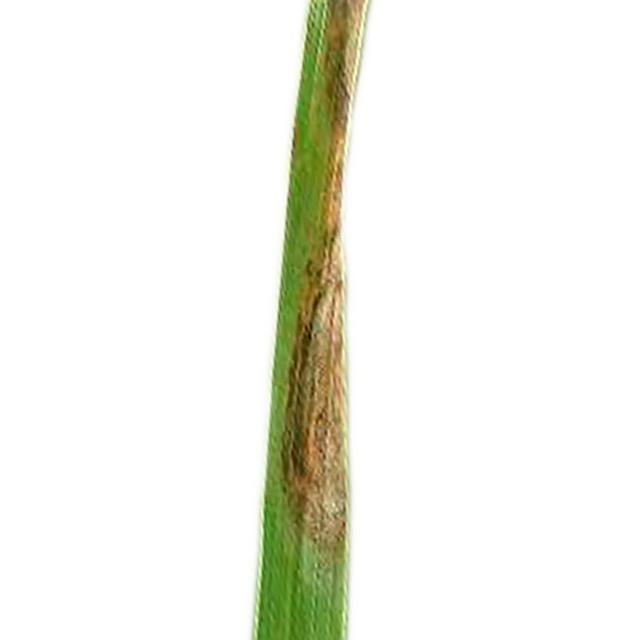Leaf scald: (152, 0, 502, 640)
